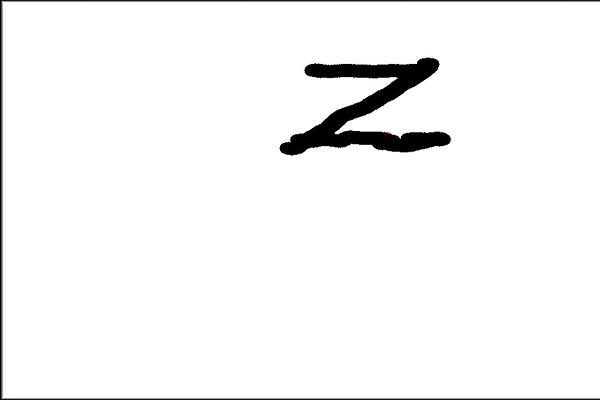Z: (274, 52, 460, 159)
